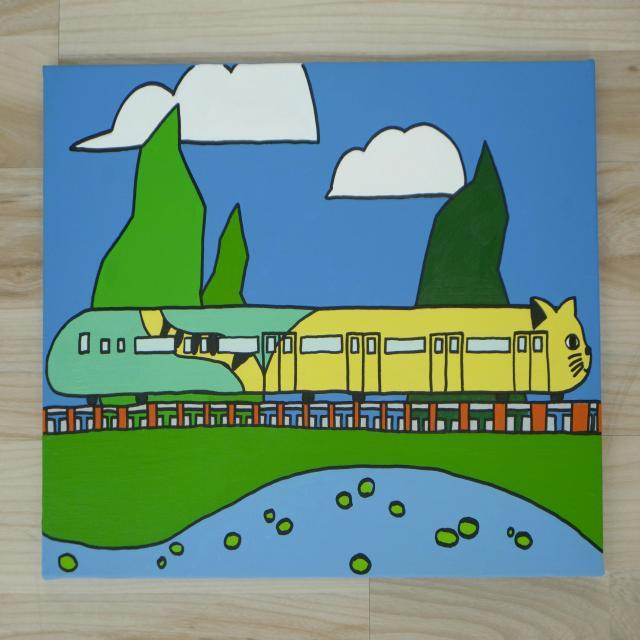painting: (42, 61, 603, 578)
